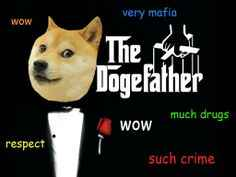doge: (26, 28, 95, 101)
